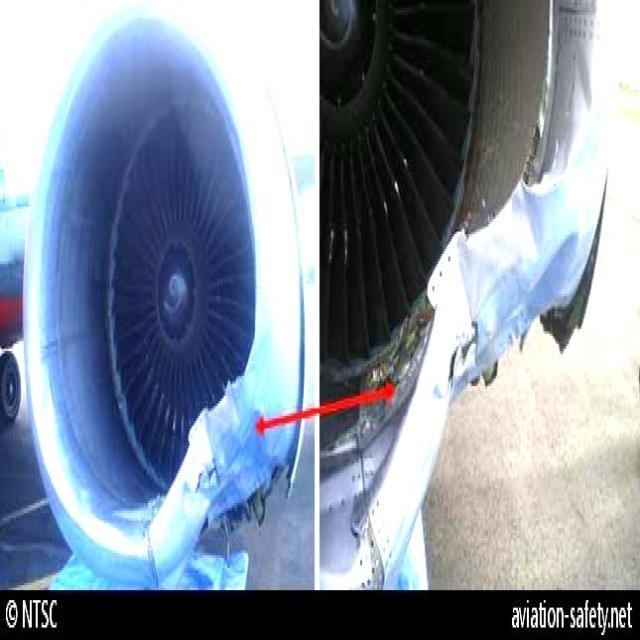dent: (508, 181, 550, 273), (450, 235, 482, 347), (569, 46, 597, 151)
